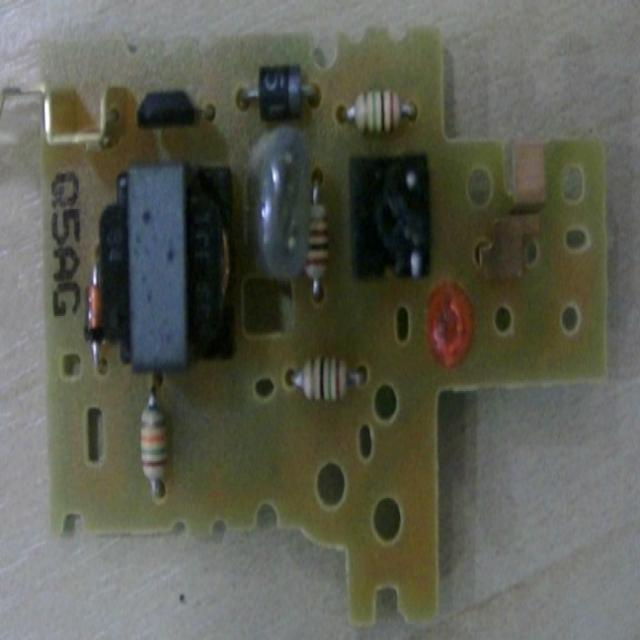019: (349, 148, 431, 290)
223: (250, 130, 312, 283)
DIODE: (237, 57, 324, 120)
LED: (424, 279, 475, 373)
R1: (289, 349, 366, 404)
R2: (305, 172, 332, 306)
R3: (339, 92, 418, 138)
R4: (139, 371, 174, 506)
TCE: (102, 164, 238, 376)
TRANSISTOR: (134, 85, 214, 133)
